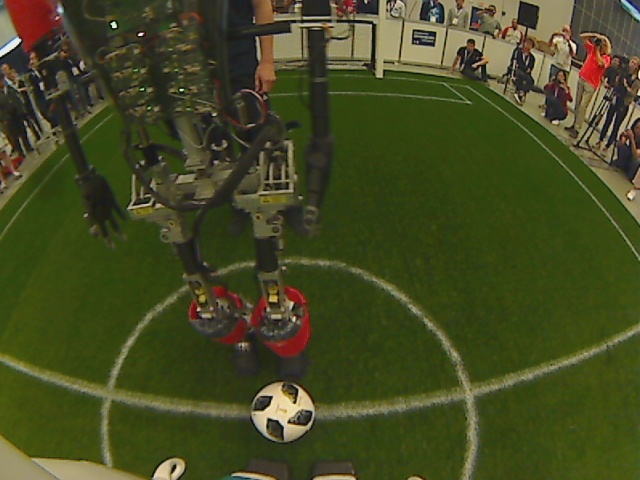ball: (247, 378, 318, 448)
goalpost: (273, 1, 388, 81)
robot: (5, 1, 337, 381)
